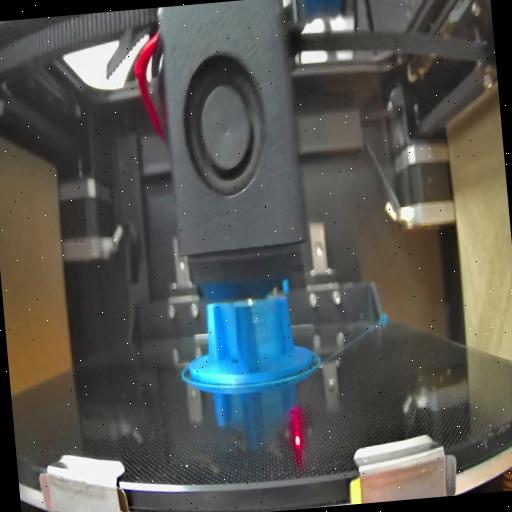stringing: (252, 294, 286, 368), (217, 301, 242, 367)
